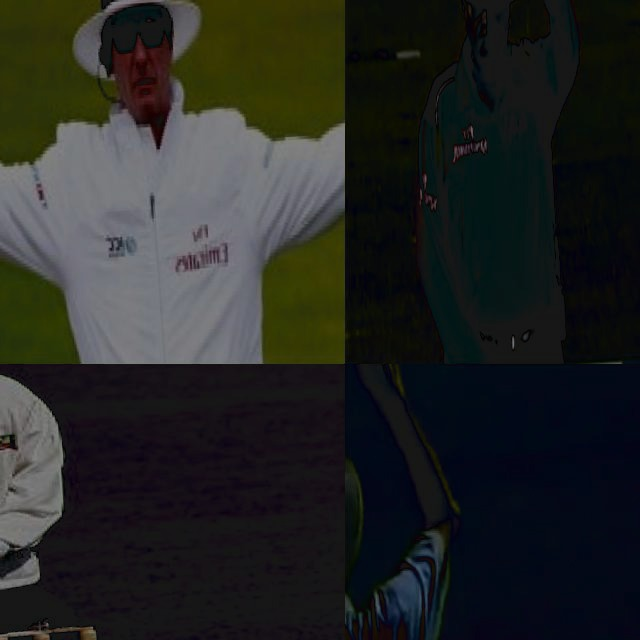No_Action: (0, 364, 171, 640)
Out: (381, 0, 606, 364)
Six: (345, 364, 498, 640)
Wide: (0, 0, 345, 364)
